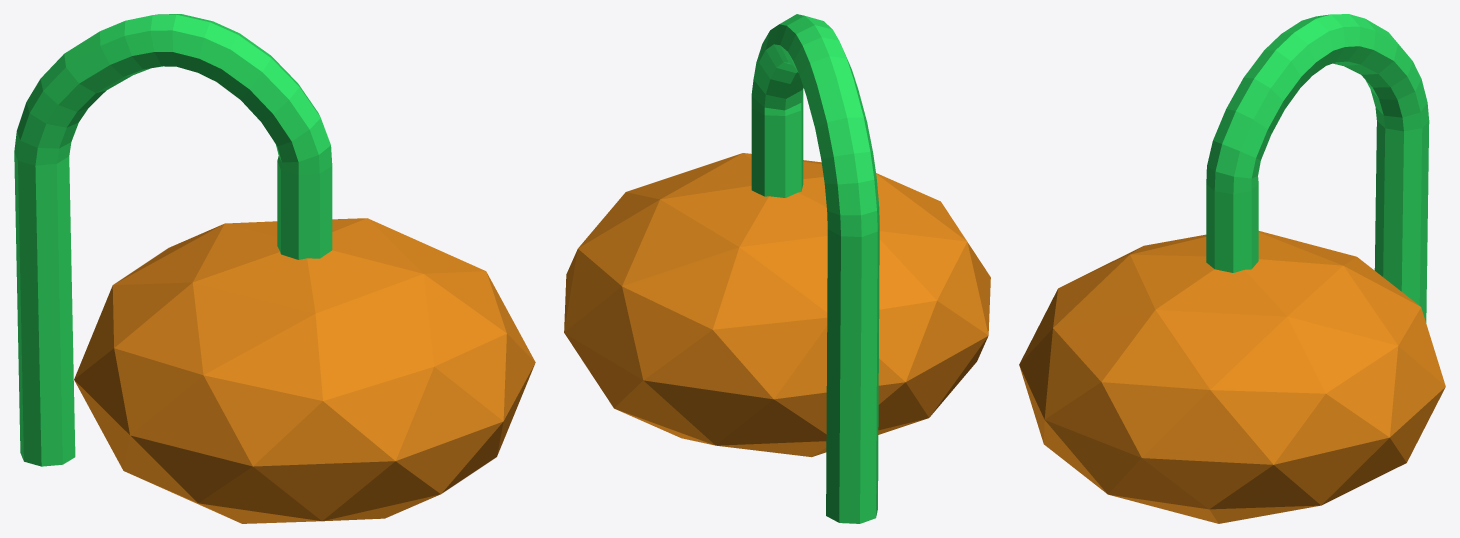
File: pumpkin_ready.glb
The picture shows the model from 3 angles, left to right: view 1: azimuth 30°, elevation 25°; view 2: azimuth 150°, elevation 25°; view 3: azimuth 270°, elevation 25°; orthographic projection. The views are drawn at different scales.
Parts seen in each view (by area): view 1: Icosphere, Cylinder; view 2: Icosphere, Cylinder; view 3: Icosphere, Cylinder.
Part boxes in pixels (x1,y1,x2,y2): Icosphere: [74, 218, 535, 523]; Cylinder: [14, 14, 332, 466]; Icosphere: [564, 153, 990, 457]; Cylinder: [751, 14, 879, 523]; Icosphere: [1019, 231, 1445, 523]; Cylinder: [1206, 14, 1429, 322].
Size of the model in its own units: 1.01 by 1.16 by 1.02.
